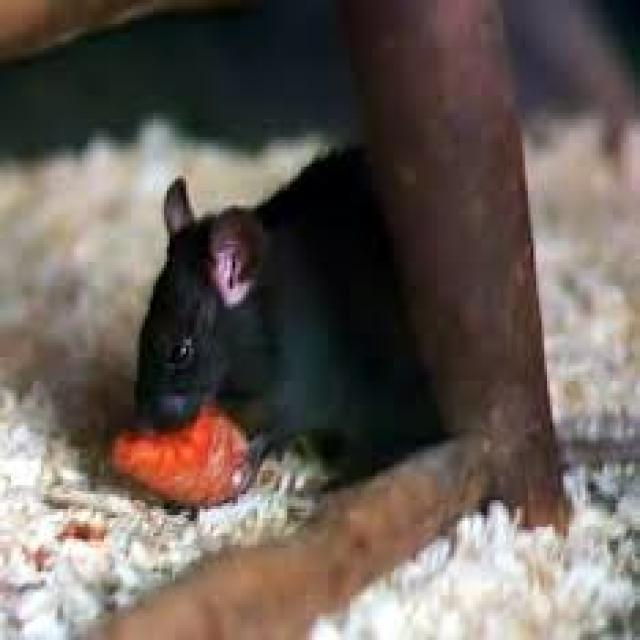rat: (132, 138, 445, 486)
